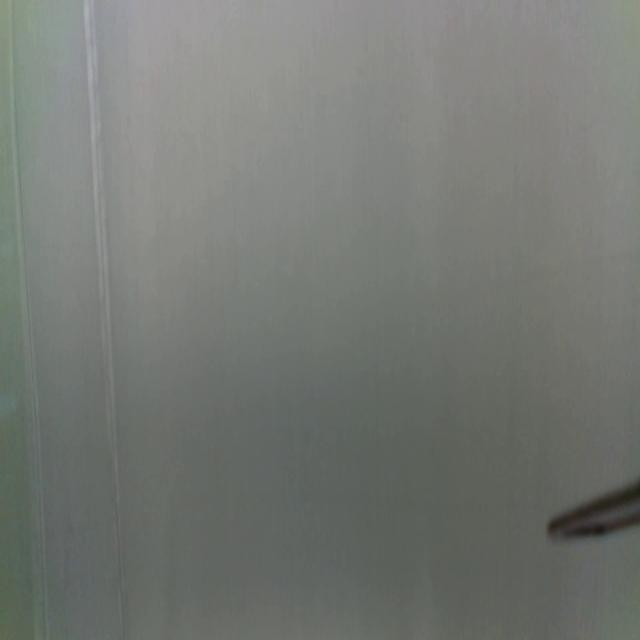crease: (9, 1, 48, 640), (88, 0, 126, 640)
